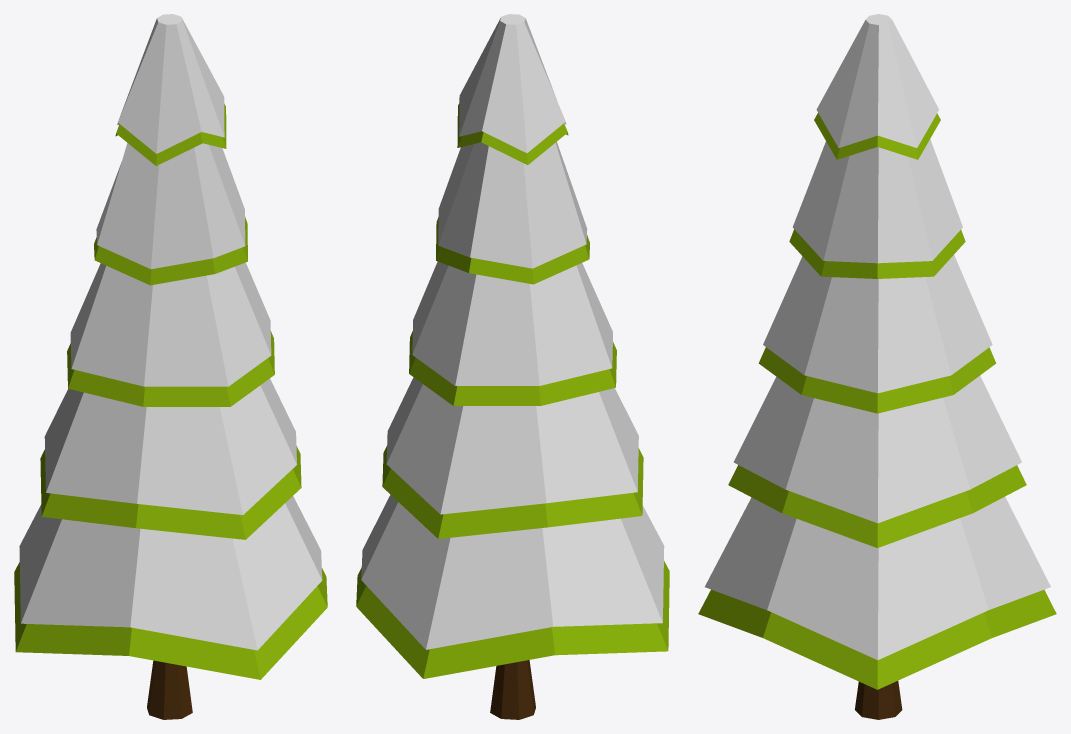
File: Spruce Trees 2.fbx
3 views of the same model, side by side, from view 1: azimuth 30°, elevation 25°; view 2: azimuth 150°, elevation 25°; view 3: azimuth 270°, elevation 25° (orthographic).
Visible parts, largest first — view 1: Spruce Tree 2; view 2: Spruce Tree 2; view 3: Spruce Tree 2.
Boxes of the visible parts, left/top/right/bottom form: Spruce Tree 2: left=14, top=14, right=327, bottom=719; Spruce Tree 2: left=356, top=14, right=669, bottom=719; Spruce Tree 2: left=698, top=14, right=1056, bottom=719.
Size of the model in its own units: 305 by 648 by 305.
